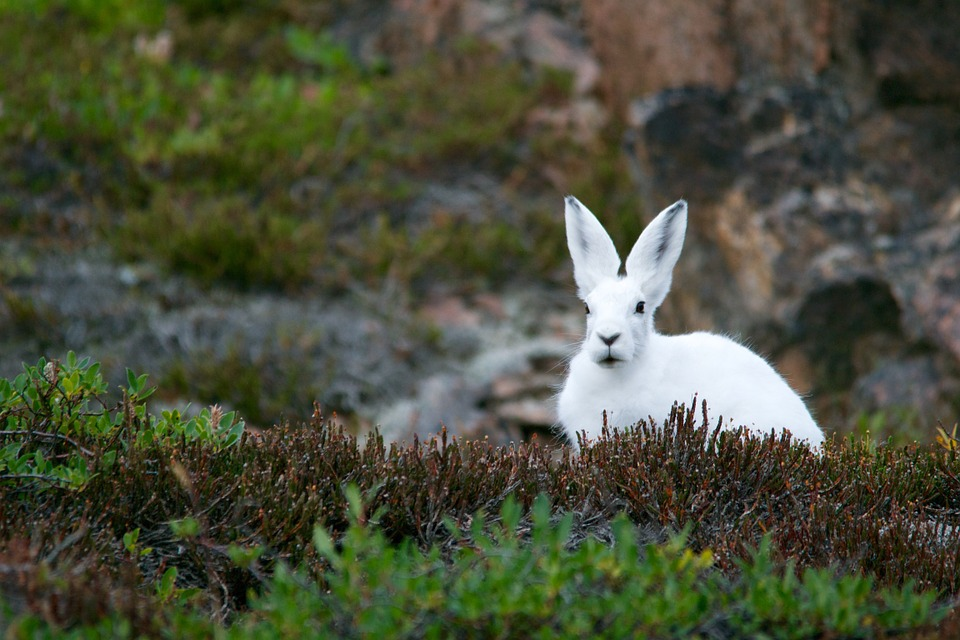bunny: (534, 174, 842, 494)
